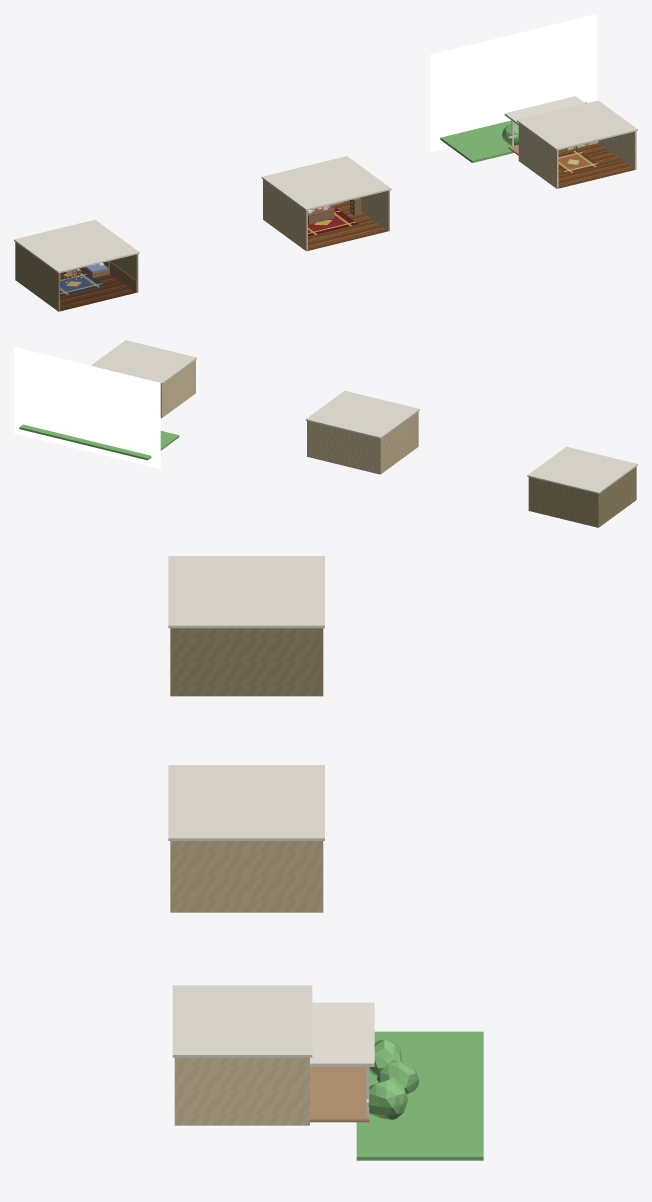
The model's file is dantzig_rooms.glb.
3 renders of one model, top to bottom at view 1: azimuth 30°, elevation 25°; view 2: azimuth 150°, elevation 25°; view 3: azimuth 270°, elevation 25°, orthographic. The views are drawn at different scales.
Visible parts, largest first — view 1: Porch_MorningSky, Merged_Ceiling_Cream, Merged_Floor_Warm, Merged_Wall_Office, Merged_Wall_Foyer, Merged_Wall_Study, Merged_Grass_Porch, Study_Floor, Merged_Wood_Walnut, Merged_Wood_Cream, Foyer_Rug, Study_Rug (+1 smaller); view 2: Porch_MorningSky, Merged_Ceiling_Cream, Merged_Wall_Office, Merged_Wall_Study, Merged_Wall_Foyer, Merged_Grass_Porch; view 3: Merged_Ceiling_Cream, Merged_Grass_Porch, Merged_Wall_Office, Merged_Wall_Study, Merged_Wall_Foyer, Merged_Wood_Cream, Merged_Wood_Oak.
Part boxes in pixels (left/top/right/bottom): Porch_MorningSky: left=430, top=14, right=596, bottom=152; Merged_Ceiling_Cream: left=14, top=100, right=637, bottom=273; Merged_Floor_Warm: left=308, top=143, right=634, bottom=250; Merged_Wall_Office: left=263, top=179, right=389, bottom=251; Merged_Wall_Foyer: left=518, top=123, right=636, bottom=188; Merged_Wall_Study: left=15, top=242, right=138, bottom=311; Merged_Grass_Porch: left=440, top=102, right=586, bottom=162; Study_Floor: left=60, top=268, right=135, bottom=311; Merged_Wood_Walnut: left=60, top=143, right=588, bottom=310; Merged_Wood_Cream: left=504, top=96, right=585, bottom=146; Foyer_Rug: left=558, top=150, right=600, bottom=173; Study_Rug: left=60, top=272, right=104, bottom=296; Porch_MorningSky: left=14, top=347, right=160, bottom=468; Merged_Ceiling_Cream: left=91, top=340, right=637, bottom=493; Merged_Wall_Office: left=307, top=411, right=418, bottom=474; Merged_Wall_Study: left=528, top=466, right=636, bottom=527; Merged_Wall_Foyer: left=160, top=360, right=195, bottom=417; Merged_Grass_Porch: left=19, top=424, right=179, bottom=460; Merged_Ceiling_Cream: left=168, top=556, right=324, bottom=1057; Merged_Grass_Porch: left=356, top=1031, right=483, bottom=1160; Merged_Wall_Office: left=170, top=841, right=323, bottom=912; Merged_Wall_Study: left=170, top=628, right=323, bottom=696; Merged_Wall_Foyer: left=174, top=1057, right=309, bottom=1125; Merged_Wood_Cream: left=310, top=1002, right=374, bottom=1116; Merged_Wood_Oak: left=310, top=1067, right=369, bottom=1122.
Size of the model in its own units: 59.9 by 9 by 14.9.
Materials: 35 (11 with a texture image).
